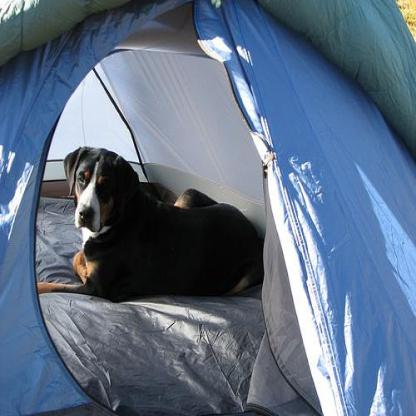Greater_Swiss_Mountain_dog: (34, 144, 265, 302)
